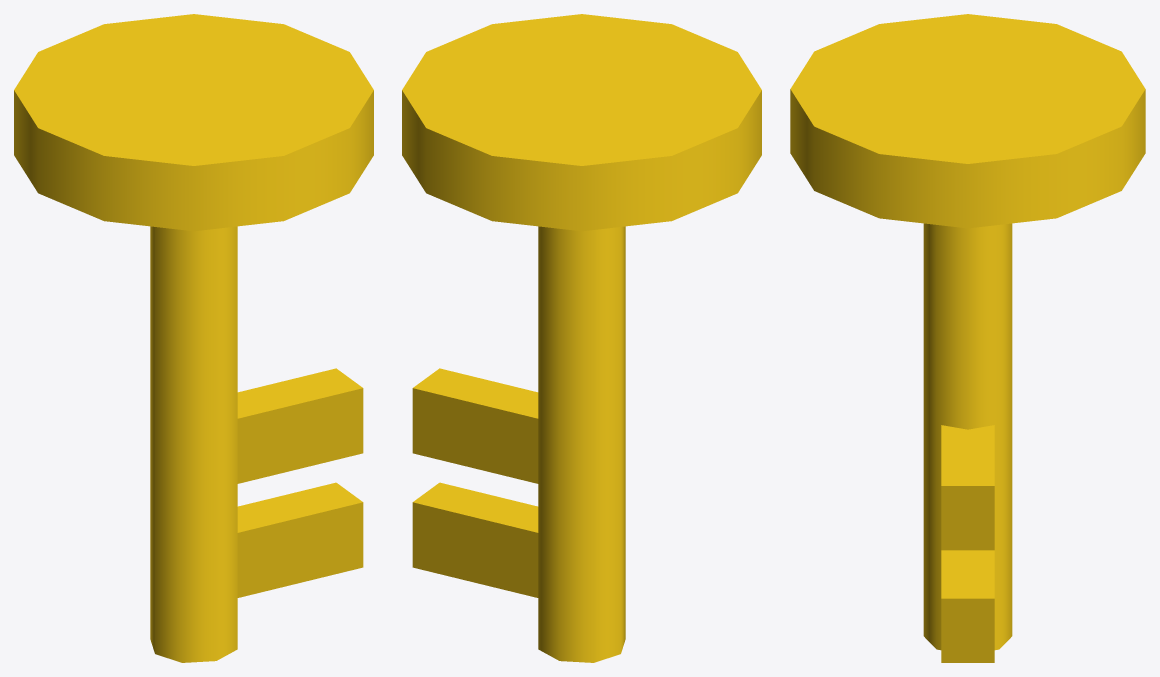
Rendered from Key.obj.
The picture shows the model from 3 angles, left to right: view 1: azimuth 30°, elevation 25°; view 2: azimuth 150°, elevation 25°; view 3: azimuth 270°, elevation 25°; orthographic projection.
Parts seen in each view (by area): view 1: Key; view 2: Key; view 3: Key.
Part boxes in pixels (x1,y1,x2,y2): Key: (14, 14, 373, 662); Key: (402, 14, 761, 662); Key: (790, 14, 1145, 662).
Bounding box in the file's own units: 0.2 × 0.34 × 0.2.
